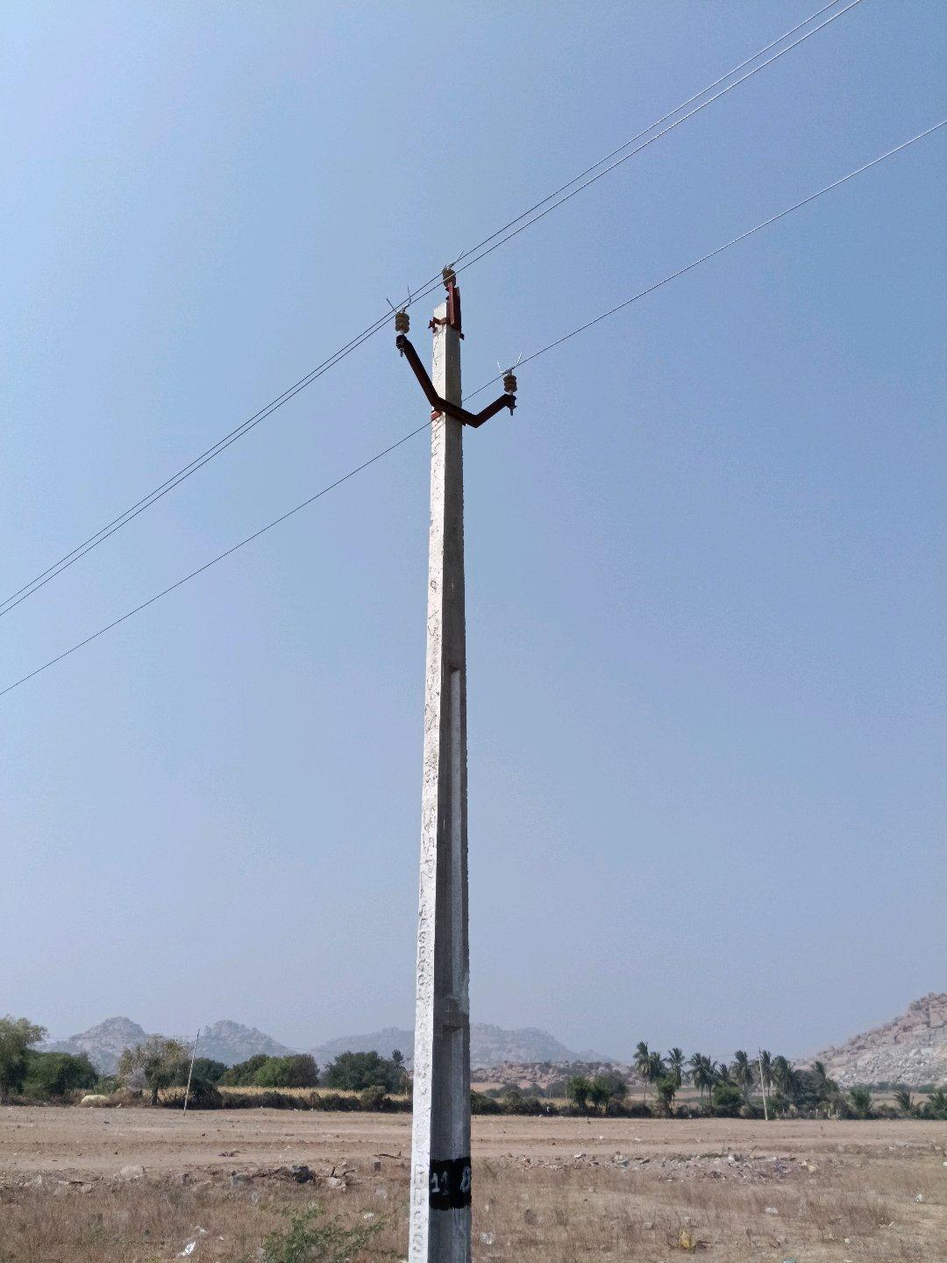{"0" "insulator", "1" "pole", "2" "crossarm", "3" "conductor", "4" "street_: (394, 266, 517, 1262), (391, 440, 403, 448), (361, 460, 374, 467), (790, 206, 797, 210), (821, 186, 826, 189), (868, 169, 872, 172), (881, 160, 885, 161)
